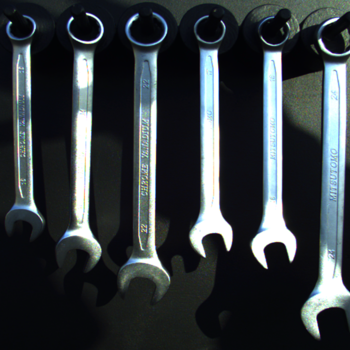bottom: (297, 283, 350, 342), (114, 258, 173, 308), (247, 220, 298, 271), (185, 216, 236, 259), (53, 231, 102, 275), (2, 202, 47, 243)
top: (311, 15, 350, 66), (123, 10, 170, 51), (62, 10, 107, 50), (254, 14, 291, 51), (191, 14, 228, 49), (3, 12, 40, 46)
